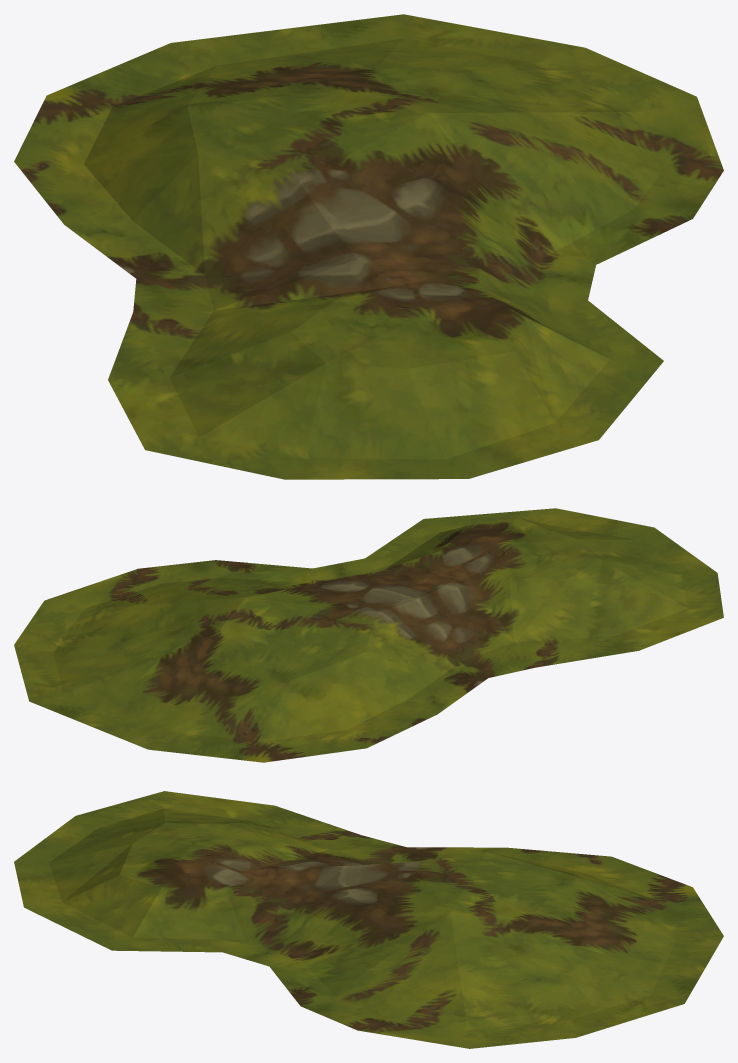
File: small_hill04.fbx
3 views of the same model, one above another, from view 1: azimuth 30°, elevation 25°; view 2: azimuth 150°, elevation 25°; view 3: azimuth 270°, elevation 25° (orthographic). The views are drawn at different scales.
Visible parts, largest first — view 1: obj0.022; view 2: obj0.022; view 3: obj0.022.
Part boxes in pixels (box(x1,y1,x2,y2)): obj0.022: box(14, 14, 723, 479); obj0.022: box(14, 508, 723, 762); obj0.022: box(14, 791, 723, 1048).
Bounding box in the file's own units: 15.45 × 1.2 × 17.97.
